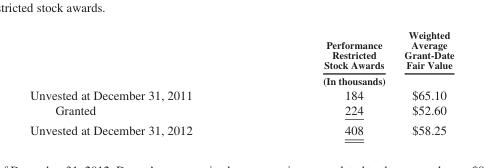table: (29, 28, 453, 136)
table column: (29, 28, 256, 136), (256, 28, 394, 136), (394, 28, 453, 136)
table column header: (29, 28, 453, 86)
table row: (29, 28, 453, 86), (29, 102, 453, 119), (29, 119, 453, 136), (29, 86, 453, 102)
